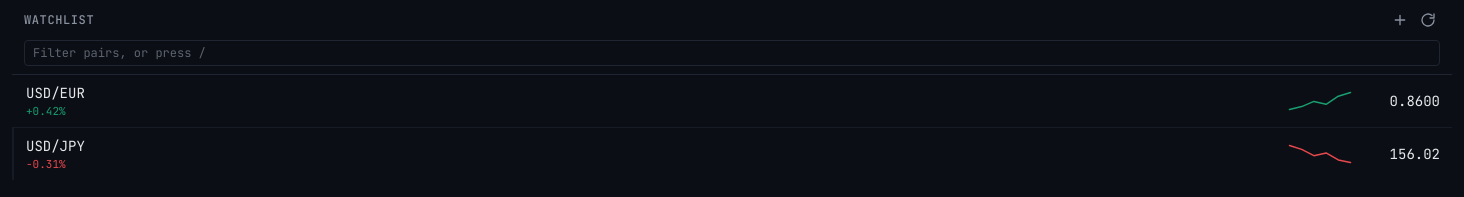
Test: Watchlist › says when nothing matches the filter
This screenshot has width=1464, height=197.
Expected: the button "USD/EUR +0.42% 0.8600" is shown, [14, 75, 1452, 127]
Type "zzz" into the search field labelled "Filter pairs, or press /".
click(732, 53); type("zzz")  # box [24, 40, 1440, 66]
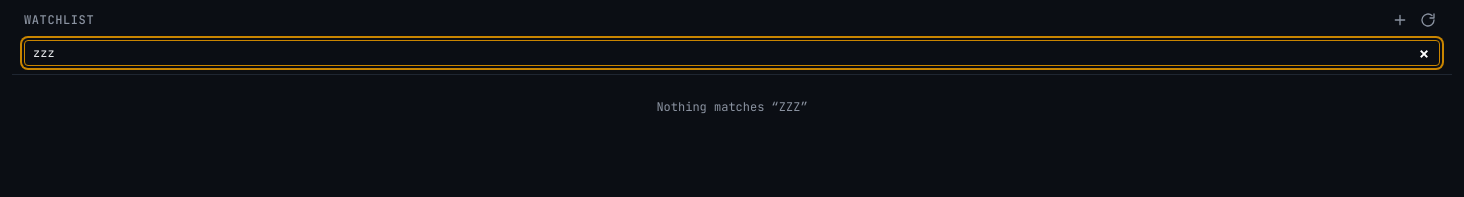
Expected: the text "Nothing matches “ZZZ”" is shown, [656, 99, 808, 115]
